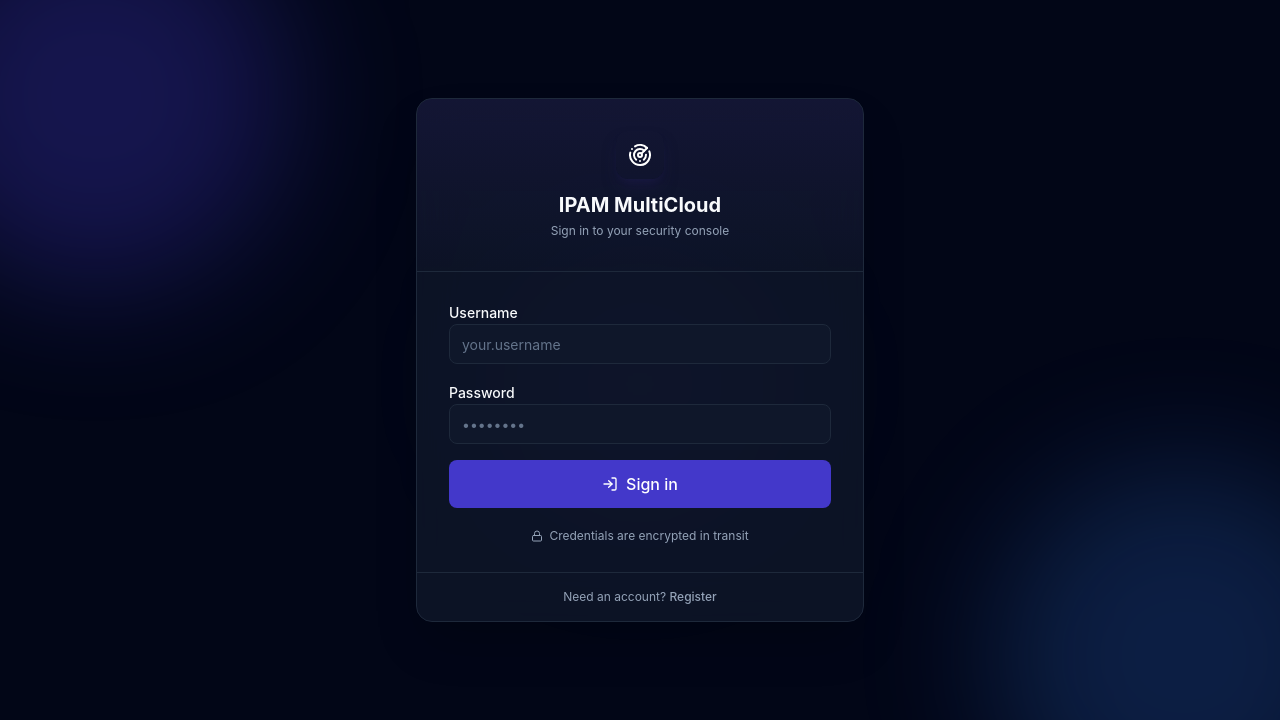
Test: Login validation › requires both username and password
Type "admin" into the field with placeholder "your.username". click: (640, 344)
box: [449,324,831,364]
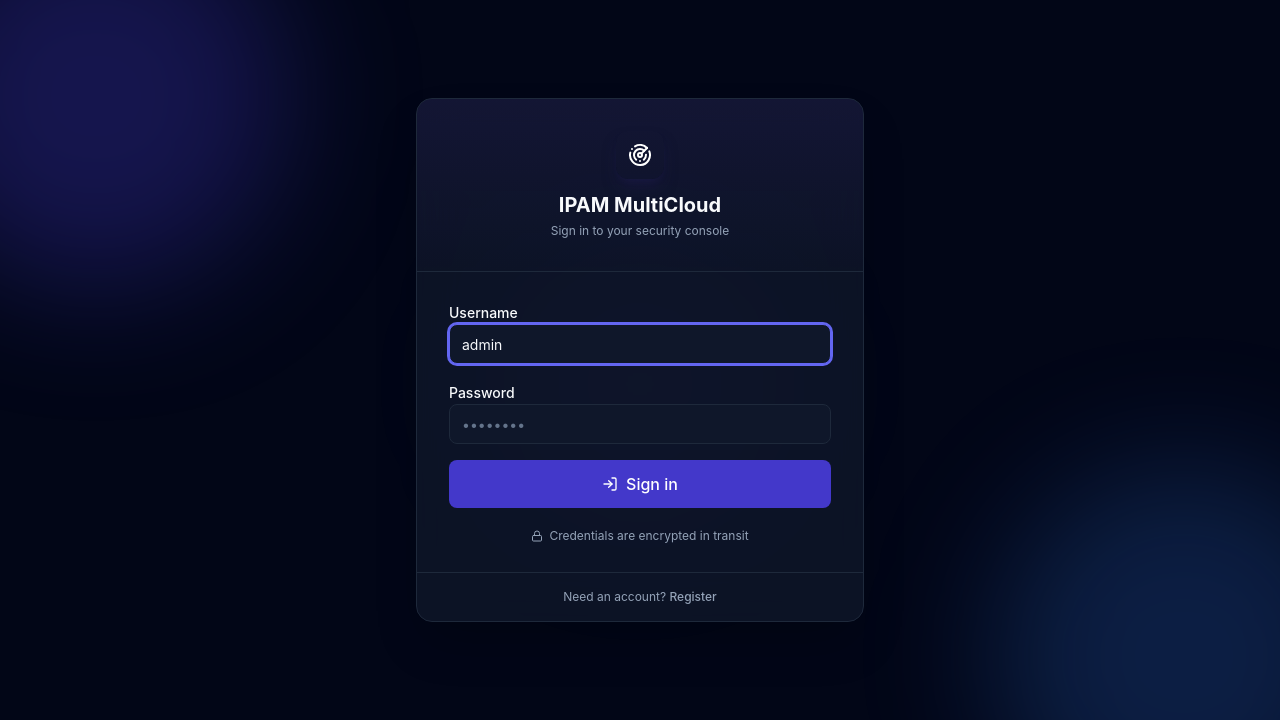
Click the button "Sign in". click: click(640, 484)
box: [449,460,831,508]
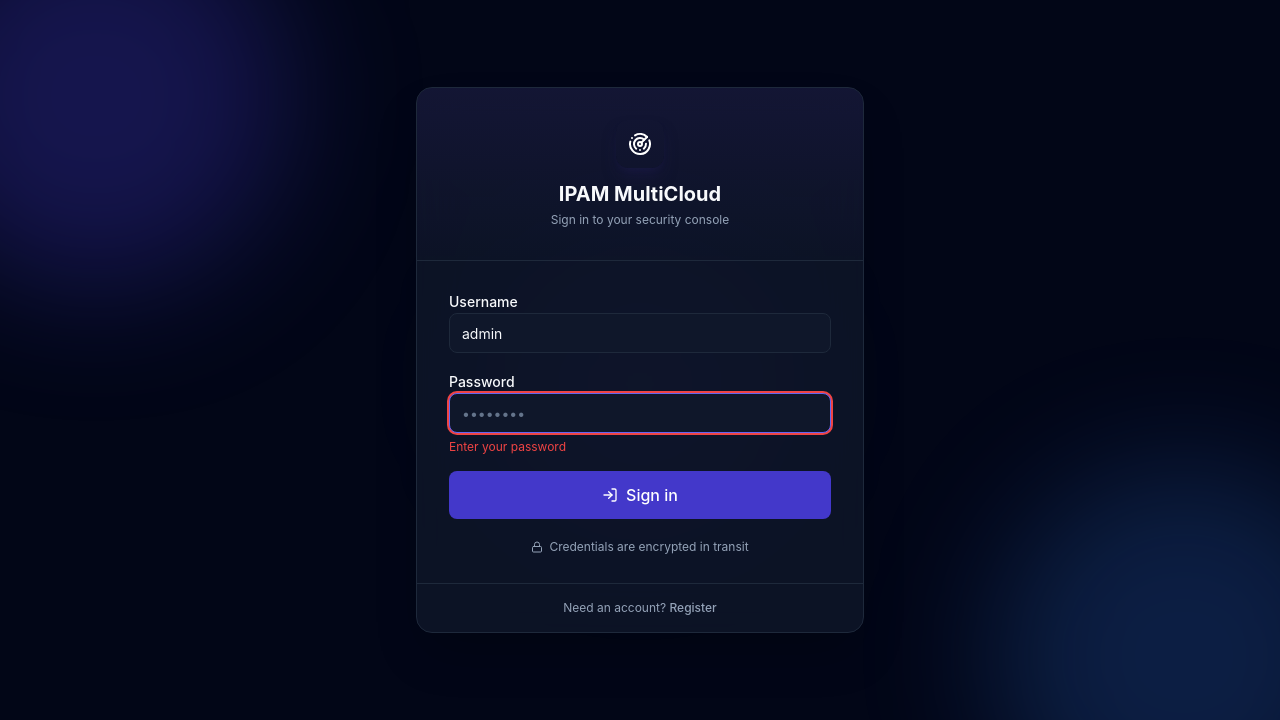
Expected: the text "Enter your password" is shown, [449,439,566,454]
